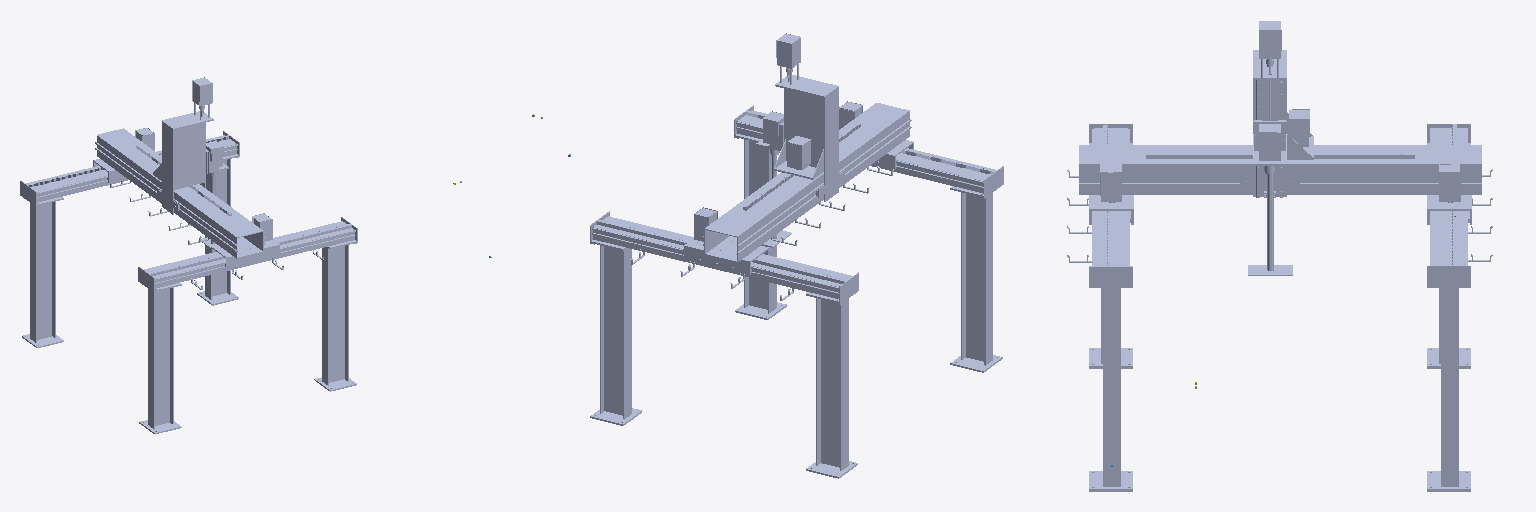
robot.urdf — gantry:
<?xml version="1.0" encoding="utf-8"?>
<!-- This URDF was automatically created by SolidWorks to URDF Exporter! Originally created by [author] ([email redacted]) 
     Commit Version: 1.6.0-1-g15f4949  Build Version: 1.6.7594.29634
     For more information, please see http://wiki.ros.org/sw_urdf_exporter -->
<!--<robot
  name="gantry">
  <link
    name="base_link">
    <inertial>
      <origin
        xyz="0.96371 1.032 1.4293"
        rpy="0 0 0" />
      <mass
        value="18.891" />
      <inertia
        ixx="0.68505"
        ixy="4.644E-15"
        ixz="5.1723E-15"
        iyy="1.4324"
        iyz="-4.7026E-17"
        izz="2.0528" />
    </inertial>
    <visual>
      <origin
        xyz="0 0 0"
        rpy="0 0 0" />
      <geometry>
        <mesh
          filename="package://gantry/meshes/base_link.STL" />
      </geometry>
      <material
        name="">
        <color
          rgba="0.79216 0.81961 0.93333 1" />
      </material>
    </visual>
    <collision>
      <origin
        xyz="0 0 0"
        rpy="0 0 0" />
      <geometry>
        <mesh
          filename="package://gantry/meshes/base_link.STL" />
      </geometry>
    </collision>
  </link>
  <link
    name="X_Motion">
    <inertial>
      <origin
        xyz="0.2743 0.98859 0.047316"
        rpy="0 0 0" />
      <mass
        value="12.196" />
      <inertia
        ixx="1.9209"
        ixy="8.6077E-06"
        ixz="-1.8748E-08"
        iyy="1.9628"
        iyz="4.3927E-15"
        izz="0.060176" />
    </inertial>
    <visual>
      <origin
        xyz="0 0 0"
        rpy="0 0 0" />
      <geometry>
        <mesh
          filename="package://gantry/meshes/X_Motion.STL" />
      </geometry>
      <material
        name="">
        <color
          rgba="0.79216 0.81961 0.93333 1" />
      </material>
    </visual>
    <collision>
      <origin
        xyz="0 0 0"
        rpy="0 0 0" />
      <geometry>
        <mesh
          filename="package://gantry/meshes/X_Motion.STL" />
      </geometry>
    </collision>
  </link>
  <joint
    name="X_Joint"
    type="prismatic">
    <origin
      xyz="-0.3 0.05 0.195"
      rpy="1.5708 0 1.5708" />
    <parent
      link="base_link" />
    <child
      link="X_Motion" />
    <axis
      xyz="0 0 1" />
    <limit
      lower="-0.45"
      upper="0.48"
      effort="20"
      velocity="1" />
  </joint>
  <link
    name="Y_Motion">
    <inertial>
      <origin
        xyz="0.060449 1.3458 0.1606"
        rpy="0 0 0" />
      <mass
        value="5.302" />
      <inertia
        ixx="0.061782"
        ixy="1.534E-08"
        ixz="-3.3824E-14"
        iyy="0.016124"
        iyz="-2.88E-05"
        izz="0.065933" />
    </inertial>
    <visual>
      <origin
        xyz="0 0 0"
        rpy="0 0 0" />
      <geometry>
        <mesh
          filename="package://gantry/meshes/Y_Motion.STL" />
      </geometry>
      <material
        name="">
        <color
          rgba="0.79216 0.81961 0.93333 1" />
      </material>
    </visual>
    <collision>
      <origin
        xyz="0 0 0"
        rpy="0 0 0" />
      <geometry>
        <mesh
          filename="package://gantry/meshes/Y_Motion.STL" />
      </geometry>
    </collision>
  </link>
  <joint
    name="Y_Joint"
    type="prismatic">
    <origin
      xyz="0.1 0 0.21"
      rpy="0 -1.5708 0" />
    <parent
      link="X_Motion" />
    <child
      link="Y_Motion" />
    <axis
      xyz="0 0 1" />
    <limit
      lower="-0.4"
      upper="0.4"
      effort="10"
      velocity="1" />
  </joint>
  <link
    name="Z_Motion">
    <inertial>
      <origin
        xyz="0.241 0.1282 0.0031489"
        rpy="0 0 0" />
      <mass
        value="1.6351" />
      <inertia
        ixx="0.0038426"
        ixy="4.3556E-06"
        ixz="3.0941E-18"
        iyy="0.002377"
        iyz="-1.5732E-18"
        izz="0.0032352" />
    </inertial>
    <visual>
      <origin
        xyz="0 0 0"
        rpy="0 0 0" />
      <geometry>
        <mesh
          filename="package://gantry/meshes/Z_Motion.STL" />
      </geometry>
      <material
        name="">
        <color
          rgba="0.79216 0.81961 0.93333 1" />
      </material>
    </visual>
    <collision>
      <origin
        xyz="0 0 0"
        rpy="0 0 0" />
      <geometry>
        <mesh
          filename="package://gantry/meshes/Z_Motion.STL" />
      </geometry>
    </collision>
  </link>
  <joint
    name="Z_Joint"
    type="prismatic">
    <origin
      xyz="-0.0115 1.1071 0.19185"
      rpy="-1.5708 0 0" />
    <parent
      link="Y_Motion" />
    <child
      link="Z_Motion" />
    <axis
      xyz="0 0 1" />
    <limit
      lower="-0.2"
      upper="0.2"
      effort="5"
      velocity="1" />
  </joint>
  <link
    name="Z_Rot">
    <inertial>
      <origin
        xyz="2.9681E-06 -0.2854 -7.323E-05"
        rpy="0 0 0" />
      <mass
        value="0.45277" />
      <inertia
        ixx="0.0077144"
        ixy="1.8825E-18"
        ixz="1.0049E-05"
        iyy="0.00045474"
        iyz="-2.4954E-17"
        izz="0.0074669" />
    </inertial>
    <visual>
      <origin
        xyz="0 0 0"
        rpy="0 0 0" />
      <geometry>
        <mesh
          filename="package://gantry/meshes/Z_Rot.STL" />
      </geometry>
      <material
        name="">
        <color
          rgba="0.79216 0.81961 0.93333 1" />
      </material>
    </visual>
    <collision>
      <origin
        xyz="0 0 0"
        rpy="0 0 0" />
      <geometry>
        <mesh
          filename="package://gantry/meshes/Z_Rot.STL" />
      </geometry>
    </collision>
  </link>
  <joint
    name="Z_Rot_Joint"
    type="revolute">
    <origin
      xyz="0.25743 0 0.0031492"
      rpy="0 0 0" />
    <parent
      link="Z_Motion" />
    <child
      link="Z_Rot" />
    <axis
      xyz="0 0 1" />
    <limit
      lower="-3.14"
      upper="3.14"
      effort="5"
      velocity="1" />
  </joint>
  <link
    name="Cup">
    <inertial>
      <origin
        xyz="-2.6593E-06 5.7892E-06 0.0070718"
        rpy="0 0 0" />
      <mass
        value="0.0020128" />
      <inertia
        ixx="6.7515E-08"
        ixy="-2.2805E-12"
        ixz="1.831E-12"
        iyy="6.7541E-08"
        iyz="-9.4715E-13"
        izz="6.9139E-08" />
    </inertial>
    <visual>
      <origin
        xyz="0 0 0"
        rpy="0 0 0" />
      <geometry>
        <mesh
          filename="package://gantry/meshes/Cup.STL" />
      </geometry>
      <material
        name="">
        <color
          rgba="0.79216 0.81961 0.93333 1" />
      </material>
    </visual>
    <collision>
      <origin
        xyz="0 0 0"
        rpy="0 0 0" />
      <geometry>
        <mesh
          filename="package://gantry/meshes/Cup.STL" />
      </geometry>
    </collision>
  </link>
  <joint
    name="Cup_Joint"
    type="fixed">
    <origin
      xyz="-0.0 -0.05 -0.48"
      rpy="3.1416 -0.0 0" />
    <parent
      link="Z_Rot" />
    <child
      link="Cup" />
    <axis
      xyz="0 0 1" />
  </joint>
</robot>-->


<!-- This URDF was automatically created by SolidWorks to URDF Exporter! Originally created by [author] ([email redacted]) 
     Commit Version: 1.6.0-1-g15f4949  Build Version: 1.6.7594.29634
     For more information, please see http://wiki.ros.org/sw_urdf_exporter -->
<robot name="gantry">

    <link name="world" />
    <joint name="Fix_Joint" type="fixed">
        <origin xyz="-0.0 0.00 0.0" rpy="0 0 0" />
        <parent link="world" />
        <child link="base_link" />
        <axis xyz="0 0 1" />
    </joint>
    <link name="base_link">
        
<inertial>
            <origin xyz="0.96371 1.032 1.4293" rpy="0 0 0" />
            <mass value="18.891" />
            <inertia ixx="0.68505" ixy="4.644E-15" ixz="5.1723E-15" iyy="1.4324" iyz="-4.7026E-17" izz="2.0528" />
        </inertial>

        <visual>
            <origin xyz="0 0 0" rpy="0 0 0" />
            <geometry>
                <mesh filename="package://gantry/meshes/base_link.dae" />
            </geometry>
            <material name="">
                <color rgba="0.79216 0.81961 0.93333 1" />
            </material>
        </visual>
        <collision>
            <origin xyz="0 0 0" rpy="0 0 0" />
            <geometry>
                <mesh filename="package://gantry/meshes/base_link.dae" />
            </geometry>
        </collision>
    </link>
    <link name="X_Motion">
        
<inertial>
            <origin xyz="0.2743 0.98859 -0.21316" rpy="0 0 0" />
            <mass value="12.196" />
            <inertia ixx="1.9209" ixy="8.6077E-06" ixz="-1.8748E-08" iyy="1.9628" iyz="4.3927E-15" izz="0.060176" />
        </inertial>

        <visual>
            <origin xyz="0 0 -0.25" rpy="0 0 0" />
            <geometry>
                <mesh filename="package://gantry/meshes/X_Motion.dae" />
            </geometry>
            <material name="">
                <color rgba="0.79216 0.81961 0.93333 1" />
            </material>
        </visual>
        <collision>
            <origin xyz="0 0 -0.25" rpy="0 0 0" />
            <geometry>
                <mesh filename="package://gantry/meshes/X_Motion.dae" />
            </geometry>
        </collision>
    </link>
    <joint name="X_Joint" type="prismatic">
        <origin xyz="-0.05 0.05 1.095" rpy="1.5708 0 1.5708" />
        <parent link="base_link" />
        <child link="X_Motion" />
        <axis xyz="1 0 0" />
        <limit lower="-0.5" upper="0.5" effort="20" velocity="1" />
    </joint>
    <link name="Y_Motion">
        
<inertial>
            <origin xyz="0.035449 1.3458 0.0956" rpy="0 0 0" />
            <mass value="5.302" />
            <inertia ixx="0.061782" ixy="1.534E-08" ixz="-3.3824E-14" iyy="0.016124" iyz="-2.88E-05" izz="0.065933" />
        </inertial>

        <visual>
            <origin xyz="-0.025 0 -0.065" rpy="0 0 0" />
            <geometry>
                <mesh filename="package://gantry/meshes/Y_Motion.dae" />
            </geometry>
            <material name="">
                <color rgba="0.79216 0.81961 0.93333 1" />
            </material>
        </visual>
        <collision>
            <origin xyz="-0.025 0 -0.065" rpy="0 0 0" />
            <geometry>
                <mesh filename="package://gantry/meshes/Y_Motion.dae" />
            </geometry>
        </collision>
    </link>
    <joint name="Y_Joint" type="prismatic">
        <origin xyz="0.035 0.2 -0.017" rpy="0 -1.5708 0" />
        <parent link="X_Motion" />
        <child link="Y_Motion" />
        <axis xyz="0 1 0" />
        <limit lower="-0.4" upper="0.4" effort="10" velocity="1" />
    </joint>
    <link name="Z_Motion">
        
<inertial>
            <origin xyz="0.241 0.1282 -0.13785" rpy="0 0 0" />
            <mass value="1.0351" />
            <inertia ixx="0.0038426" ixy="4.3556E-06" ixz="3.0941E-18" iyy="0.002377" iyz="-1.5732E-18" izz="0.0032352" />
        </inertial>

        <visual>
            <origin xyz="0 0 -0.14" rpy="0 0 0" />
            <geometry>
                <mesh filename="package://gantry/meshes/Z_Motion.dae" />
            </geometry>
            <material name="">
                <color rgba="0.79216 0.81961 0.93333 1" />
            </material>
        </visual>
        <collision>
            <origin xyz="0 0 -0.14" rpy="0 0 0" />
            <geometry>
                <mesh filename="package://gantry/meshes/Z_Motion.dae" />
            </geometry>
        </collision>
    </link>
    <joint name="Z_Joint" type="prismatic">
        <origin xyz="0.143 0.14 0.12685" rpy="-1.5708 0 0" />
        <parent link="Y_Motion" />
        <child link="Z_Motion" />
        <axis xyz="0 0 1" />
        <limit lower="-0.2" upper="0.2" effort="50" velocity="1" />
    </joint>
    <link name="Z_Rot">
        
<inertial>
            <origin xyz="2.9681E-06 -0.2854 -7.323E-05" rpy="0 0 0" />
            <mass value="0.15277" />
            <inertia ixx="0.0077144" ixy="1.8825E-18" ixz="1.0049E-05" iyy="0.00045474" iyz="-2.4954E-17" izz="0.0074669" />
        </inertial>

        <visual>
            <origin xyz="0 0 0" rpy="0 0 0" />
            <geometry>
                <mesh filename="package://gantry/meshes/Z_Rot.dae" />
            </geometry>
            <material name="">
                <color rgba="0.79216 0.81961 0.93333 1" />
            </material>
        </visual>
        <collision>
            <origin xyz="0 0 0" rpy="0 0 0" />
            <geometry>
                <mesh filename="package://gantry/meshes/Z_Rot.dae" />
            </geometry>
        </collision>
    </link>
    <joint name="Z_Rot_Joint" type="revolute">
        <origin xyz="0.08 0 -0.14" rpy="0 0 0" />
        <parent link="Z_Motion" />
        <child link="Z_Rot" />
        <axis xyz="0 0 1" />
        <limit lower="-3.14" upper="3.14" effort="5" velocity="1" />
    </joint>
    <link name="Cup">
        
        <inertial>
            <origin xyz="-2.6593E-06 5.7892E-06 0.0070718" rpy="0 0 0" />
            <mass value="0.0020128" />
            <inertia ixx="6.7515E-08" ixy="-2.2805E-12" ixz="1.831E-12" iyy="6.7541E-08" iyz="-9.4715E-13" izz="6.9139E-08" />
        </inertial>

        <visual>
            <origin xyz="0 0 0" rpy="0 0 0" />
            <geometry>
                <mesh filename="package://gantry/meshes/Cup.dae" />
            </geometry>
            <material name="">
                <color rgba="0.79216 0.81961 0.93333 1" />
            </material>
        </visual>
        <collision>
            <origin xyz="0 0 0" rpy="0 0 0" />
            <geometry>
                <mesh filename="package://gantry/meshes/Cup.dae" />
            </geometry>
        </collision>
    </link>
    <joint name="Cup_Joint" type="revolute">
        <origin xyz="-0.0 -0.05 -0.48" rpy="3.14 -0.0 0" />
        <parent link="Z_Rot" />
        <child link="Cup" />
        <axis xyz="0 0 1" />
        <limit lower="-0" upper="0" effort="5" velocity="0" />
    </joint>
  <joint name="camera_joint" type="fixed">
    <axis xyz="0 1 0" />
    <origin xyz="1.8 -0.375 1.0" rpy="0 1.5708 0"/>
    <parent link="world"/>
    <child link="camera_link"/>
  </joint>

  <!-- Camera -->
  <link name="camera_link">
    <collision>
      <origin xyz="0 0 0" rpy="0 0 0"/>
      <geometry>
    <box size="0.01 0.01 0.01"/>
      </geometry>
    </collision>

    <visual>
      <origin xyz="0 0 0" rpy="0 0 0"/>
      <geometry>
    <box size="0.01 0.01 0.01"/>
      </geometry>
      
    </visual>

    <inertial>
      <mass value="1e-5" />
      <origin xyz="0 0 0" rpy="0 0 0"/>
      <inertia ixx="1e-6" ixy="0" ixz="0" iyy="1e-6" iyz="0" izz="1e-6" />
    </inertial>
  </link>   
  
  <joint name="laser_joint" type="fixed">
    <axis xyz="0 1 0" />
    <origin xyz="1.75 -0.375 1.0" rpy="0 1.5708 0"/>
    <parent link="world"/>
    <child link="laser_link"/>
  </joint>

  <!-- Hokuyo Laser -->
  <link name="laser_link">
    <collision>
      <origin xyz="0 0 0" rpy="0 0 0"/>
      <geometry>
    <box size="0.01 0.01 0.01"/>
      </geometry>
    </collision>

    <visual>
      <origin xyz="0 0 0" rpy="0 0 0"/>
      <geometry>
        <box size="0.01 0.01 0.01"/>
      </geometry>
    </visual>

    <inertial>
      <mass value="1e-5" />
      <origin xyz="0 0 0" rpy="0 0 0"/>
      <inertia ixx="1e-6" ixy="0" ixz="0" iyy="1e-6" iyz="0" izz="1e-6" />
    </inertial>
  </link>
  
  <joint name="cam_on_laser_joint" type="fixed">
    <axis xyz="0 1 0" />
    <origin xyz="1.8 -0.75 0.62" rpy="0 0 1.5708"/>
    <parent link="world"/>
    <child link="cam_on_laser_link"/>
  </joint>

  <!-- Hokuyo Laser -->
  <link name="cam_on_laser_link">
    <collision>
      <origin xyz="0 0 0" rpy="0 0 0"/>
      <geometry>
    <box size="0.01 0.01 0.01"/>
      </geometry>
    </collision>

    <visual>
      <origin xyz="0 0 0" rpy="0 0 0"/>
      <geometry>
        <box size="0.01 0.01 0.01"/>
      </geometry>
    </visual>

    <inertial>
      <mass value="1e-5" />
      <origin xyz="0 0 0" rpy="0 0 0"/>
      <inertia ixx="1e-6" ixy="0" ixz="0" iyy="1e-6" iyz="0" izz="1e-6" />
    </inertial>
  </link>   
  
  
<transmission name="trans_X_Joint">
        <type>transmission_interface/SimpleTransmission</type>
        <joint name="X_Joint">
            <hardwareInterface>hardware_interface/PositionJointInterface</hardwareInterface>
        </joint>
        <actuator name="X_Joint_motor">
            <hardwareInterface>hardware_interface/PositionJointInterface</hardwareInterface>
            <mechanicalReduction>1</mechanicalReduction>
        </actuator>
    </transmission>
    <transmission name="trans_Y_Joint">
        <type>transmission_interface/SimpleTransmission</type>
        <joint name="Y_Joint">
            <hardwareInterface>hardware_interface/PositionJointInterface</hardwareInterface>
        </joint>
        <actuator name="Y_Joint_motor">
            <hardwareInterface>hardware_interface/PositionJointInterface</hardwareInterface>
            <mechanicalReduction>1</mechanicalReduction>
        </actuator>
    </transmission>
    <transmission name="trans_Z_Joint">
        <type>transmission_interface/SimpleTransmission</type>
        <joint name="Z_Joint">
            <hardwareInterface>hardware_interface/PositionJointInterface</hardwareInterface>
        </joint>
        <actuator name="Z_Joint_motor">
            <hardwareInterface>hardware_interface/PositionJointInterface</hardwareInterface>
            <mechanicalReduction>1</mechanicalReduction>
        </actuator>
    </transmission>
    <transmission name="trans_Z_Rot_Joint">
        <type>transmission_interface/SimpleTransmission</type>
        <joint name="Z_Rot_Joint">
            <hardwareInterface>hardware_interface/PositionJointInterface</hardwareInterface>
        </joint>
        <actuator name="Z_Rot_Joint_motor">
            <hardwareInterface>hardware_interface/PositionJointInterface</hardwareInterface>
            <mechanicalReduction>1</mechanicalReduction>
        </actuator>
    </transmission>
    <transmission name="trans_Cup_Joint">
        <type>transmission_interface/SimpleTransmission</type>
        <joint name="Cup_Joint">
            <hardwareInterface>hardware_interface/PositionJointInterface</hardwareInterface>
        </joint>
        <actuator name="Cup_Joint_motor">
            <hardwareInterface>hardware_interface/PositionJointInterface</hardwareInterface>
            <mechanicalReduction>1</mechanicalReduction>
        </actuator>
    </transmission>
    <gazebo>
        <plugin name="gazebo_ros_control" filename="libgazebo_ros_control.so">
            <robotNamespace>/</robotNamespace>
        </plugin>
    </gazebo>
    <gazebo reference="camera_link">
    	<material>Gazebo/Red</material>
    </gazebo>
<gazebo reference="camera_link">
    <sensor type="depth" name="camera1">
      <update_rate>30.0</update_rate>
      <camera name="head">
        <horizontal_fov>1.047198</horizontal_fov>
        <image>
          <width>640</width>
          <height>480</height>
          <format>R8G8B8</format>
        </image>
        <clip>
          <near>0.0001</near>
          <far>2.9</far>
        </clip>
        <noise>
          <type>gaussian</type>
          <!-- Noise is sampled independently per pixel on each frame.
               That pixel's noise value is added to each of its color
               channels, which at that point lie in the range [0,1]. -->
          <mean>0.0</mean>
          <stddev>0.000007</stddev>
        </noise>
      </camera>
      <plugin name="camera_controller" filename="libgazebo_ros_openni_kinect.so">
        <alwaysOn>true</alwaysOn>
        <updateRate>0.0</updateRate>
        <cameraName>/camera1</cameraName>
        <imageTopicName>/camera1/image_raw</imageTopicName>
        <cameraInfoTopicName>/camera1/camera_info</cameraInfoTopicName>
        <baseline>0.1</baseline>
        <alwaysOn>true</alwaysOn>
        <updateRate>1.0</updateRate>
        <cameraName>camera2_ir</cameraName>
        <imageTopicName>/camera1/color/image_raw</imageTopicName>
        <cameraInfoTopicName>/camera1/color/camera_info</cameraInfoTopicName>
        <depthImageTopicName>/camera1/depth/image_raw</depthImageTopicName>
        <depthImageInfoTopicName>/camera1/depth/camera_info</depthImageInfoTopicName>
        <pointCloudTopicName>/camera1/depth/points</pointCloudTopicName>
        <frameName>image</frameName>
        <pointCloudCutoff>0.5</pointCloudCutoff>
        <pointCloudCutoffMax>3.0</pointCloudCutoffMax>
        <distortionK1>0.00000001</distortionK1>
        <distortionK2>0.00000001</distortionK2>
        <distortionK3>0.00000001</distortionK3>
        <distortionT1>0.00000001</distortionT1>
        <distortionT2>0.00000001</distortionT2>
        <CxPrime>0</CxPrime>
        <Cx>0</Cx>
        <Cy>0</Cy>
        <focalLength>0</focalLength>
        <hackBaseline>0</hackBaseline>
      </plugin>
    </sensor>
  </gazebo> 
  
  <gazebo reference="laser_link">
    <material>Gazebo/Red</material>
    <sensor type="ray" name="head_laser_sensor">
      <pose>0 0 0 0 0 0</pose>
      <always_on>1</always_on>
      <visualize>true</visualize>
      <update_rate>5</update_rate>
      <ray>
        <scan>
          <horizontal>
            <samples>1</samples>
            <resolution>1</resolution>
            <min_angle>-0.0</min_angle>
            <max_angle>0.0</max_angle>
          </horizontal>
        </scan>
        <range>
          <min>0.08</min>
          <max>3.0</max>
          <resolution>0.01</resolution>
        </range>
        <noise>
          <type>gaussian</type>
          <!-- Noise parameters based on published spec for Hokuyo laser
               achieving "+-30mm" accuracy at range < 10m.  A mean of 0.0m and
               stddev of 0.01m will put 99.7% of samples within 0.03m of the true
               reading. -->
          <mean>0.0</mean>

          <stddev>0.00001</stddev>
        </noise>
      </ray>
      <plugin name="gazebo_ros_head_laser_controller" filename="libgazebo_ros_laser.so">
        <topicName>/laser/scan</topicName>
        <frameName>/world</frameName>
      </plugin>
    </sensor>
  </gazebo>   
  
  <gazebo reference="cam_on_laser_link">
    <material>Gazebo/Red</material>
    <sensor type="ray" name="head_laser_sensor_2">
      <pose>0 0 0 0 0 0</pose>
      <always_on>1</always_on>
      <visualize>true</visualize>
      <update_rate>20</update_rate>
      <ray>
        <scan>
          <horizontal>
            <samples>1</samples>
            <resolution>1</resolution>
            <min_angle>-0.0</min_angle>
            <max_angle>0.0</max_angle>
          </horizontal>
        </scan>
        <range>
          <min>0.08</min>
          <max>0.8</max>
          <resolution>0.01</resolution>
        </range>
        <noise>
          <type>gaussian</type>
          <!-- Noise parameters based on published spec for Hokuyo laser
               achieving "+-30mm" accuracy at range < 10m.  A mean of 0.0m and
               stddev of 0.01m will put 99.7% of samples within 0.03m of the true
               reading. -->
          <mean>0.0</mean>
          <stddev>0.01</stddev>
        </noise>
      </ray>
      <plugin name="gazebo_ros_head_laser_controller" filename="libgazebo_ros_laser.so">
        <topicName>/cam_on_laser/scan</topicName>
        <frameName>/world</frameName>
      </plugin>
    </sensor>
  </gazebo>   

</robot>









<!-- END -->

--- Render facts (derived) ---
3 views of the same robot in one strip: view 1: azimuth 30°, elevation 25°; view 2: azimuth 150°, elevation 25°; view 3: azimuth 270°, elevation 25° (orthographic).
Robot: gantry — 10 links, 9 joints (2 revolute, 3 prismatic, 4 fixed); root link world; default pose: every joint at zero.
Links seen in each view (by area): view 1: base_link, X_Motion, Y_Motion, Z_Motion; view 2: base_link, X_Motion, Y_Motion, Z_Motion; view 3: X_Motion, base_link, Y_Motion, Z_Motion, Z_Rot.
Boxes of the visible links, x1,y1,x2,y2 form: base_link: (20,131,357,433); X_Motion: (93,128,279,268); Y_Motion: (153,77,213,214); Z_Motion: (206,141,228,176); base_link: (590,105,1003,478); X_Motion: (684,101,913,274); Y_Motion: (774,33,844,201); Z_Motion: (756,111,783,155); X_Motion: (1079,145,1481,224); base_link: (1067,124,1492,491); Y_Motion: (1240,21,1313,197); Z_Motion: (1253,120,1286,173); Z_Rot: (1248,174,1292,275).
Size in the robot's own frame: 2.56 by 1.9 by 1.98 metres.
Meshes: 6 distinct files referenced, 6 mesh visuals loaded (6 Collada DAE).
